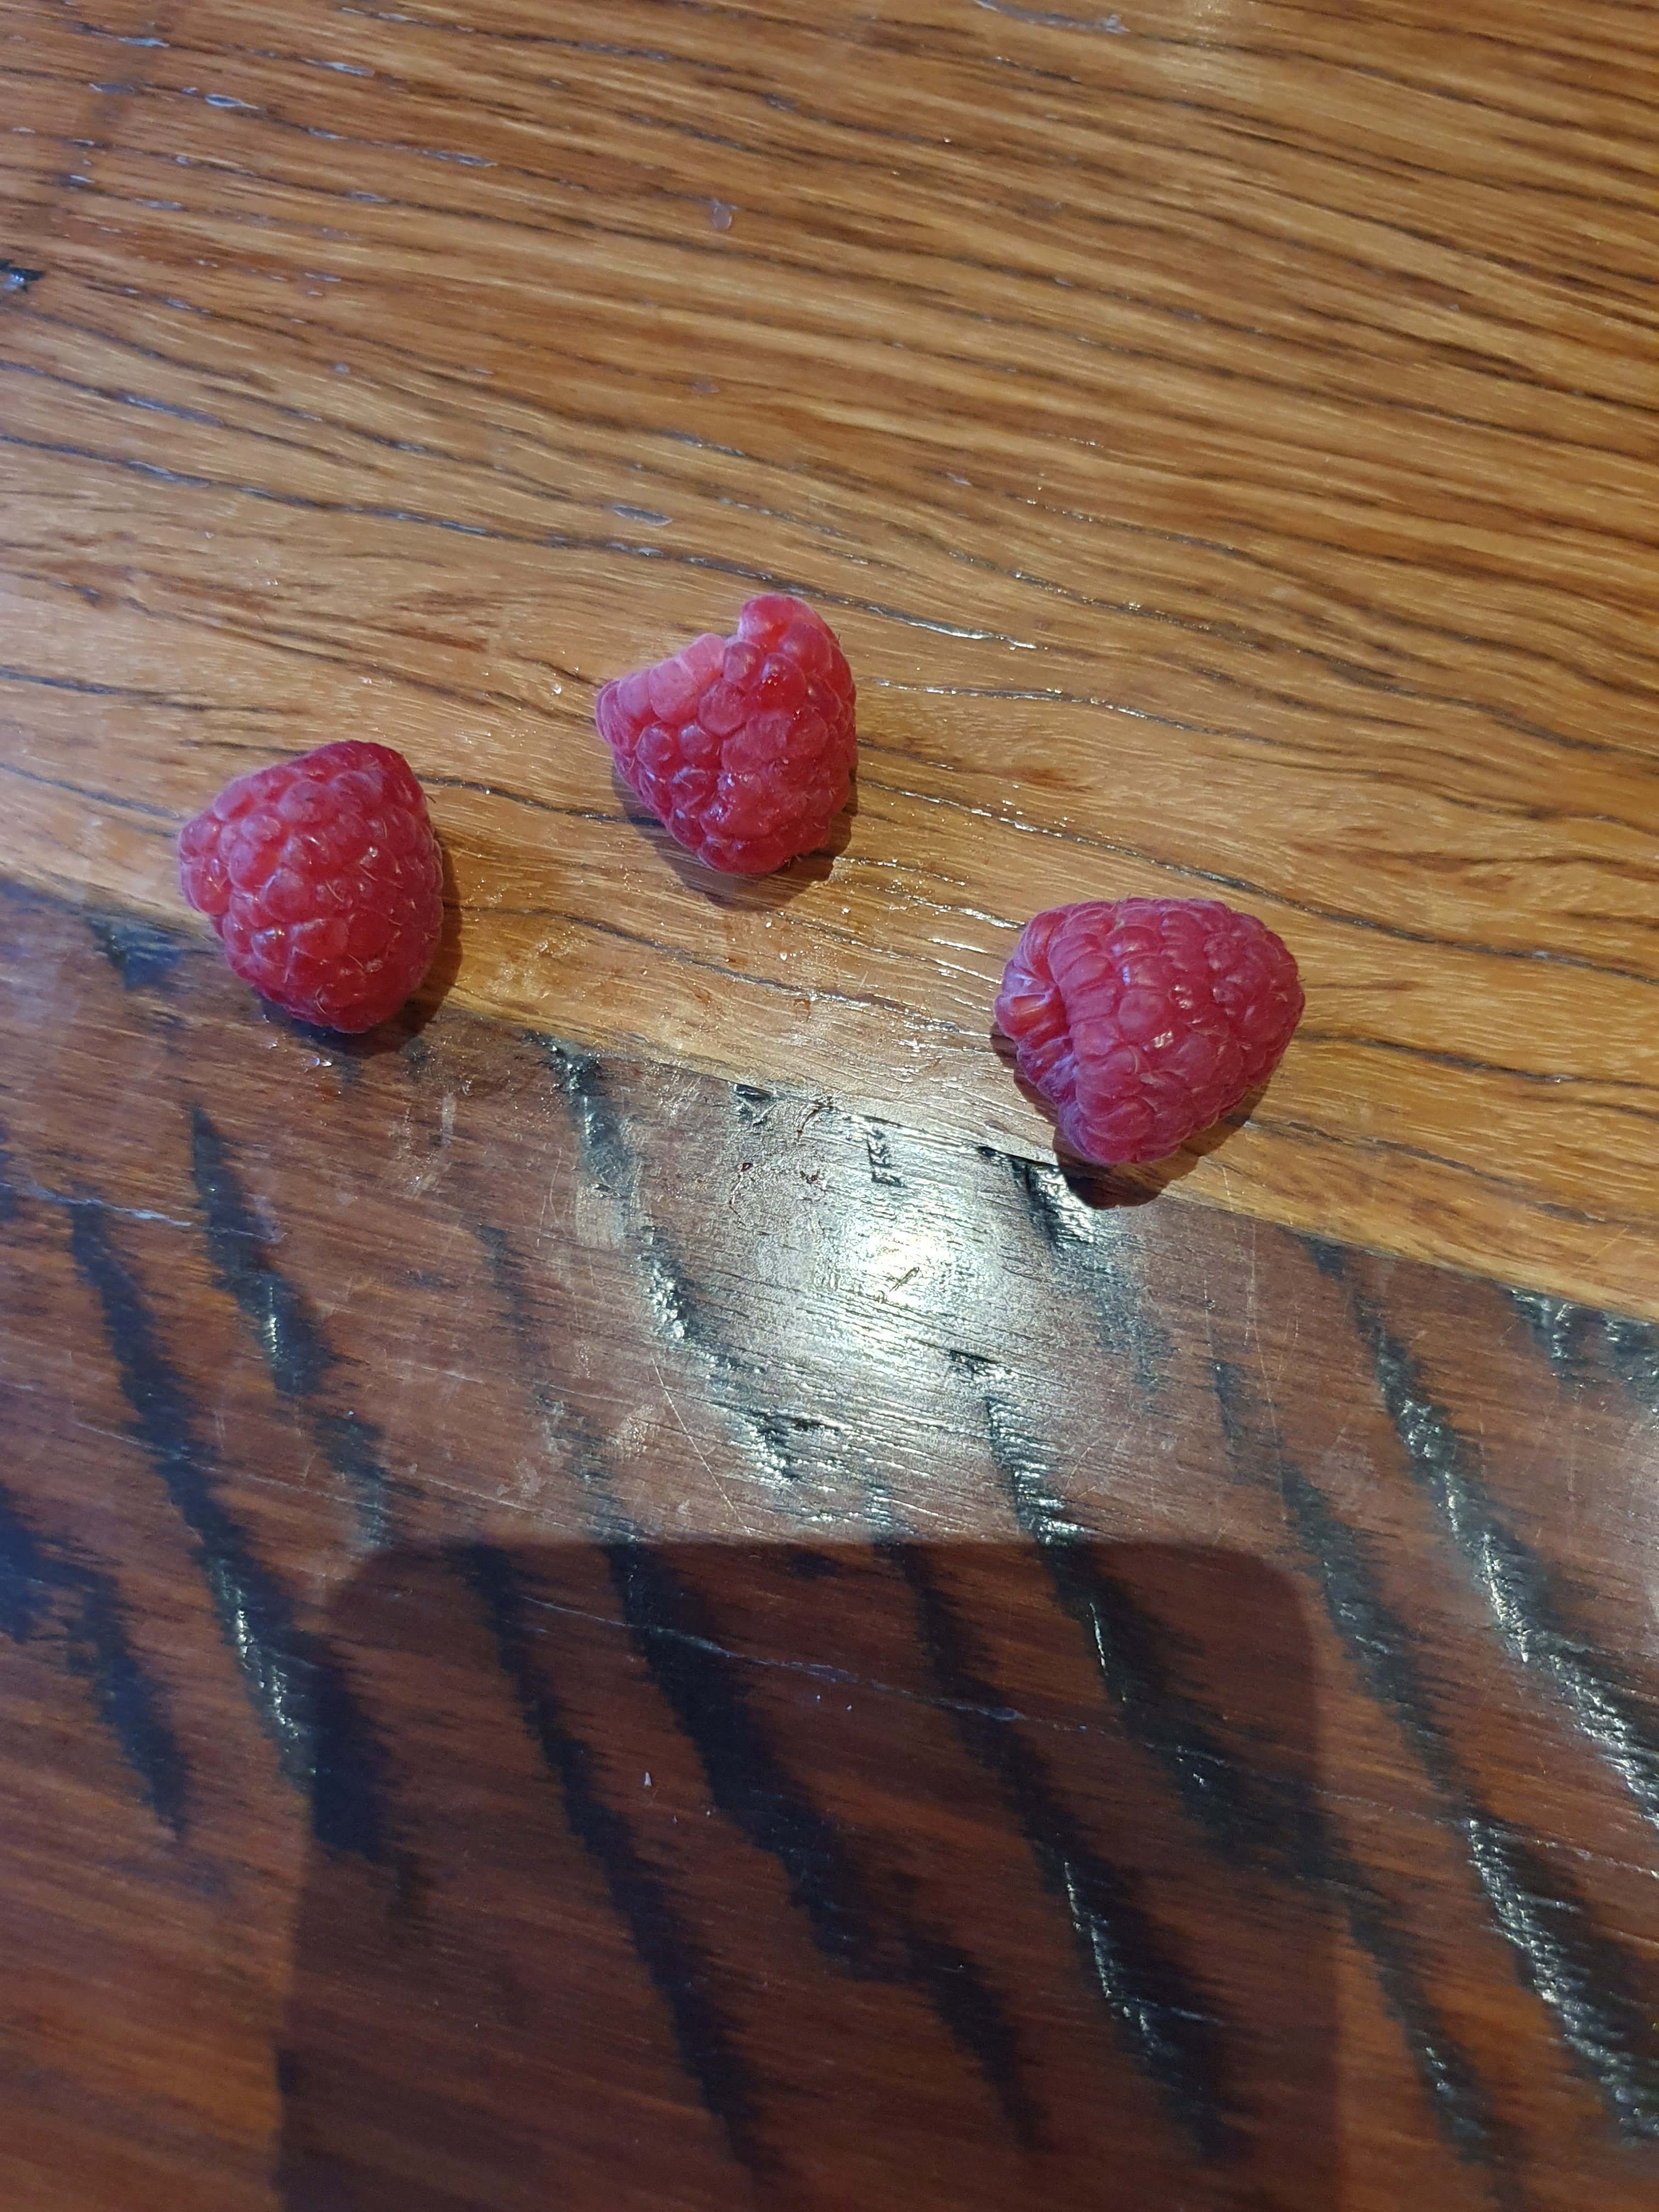raspberry: (139, 702, 491, 1061), (974, 852, 1330, 1200), (568, 575, 884, 873)
